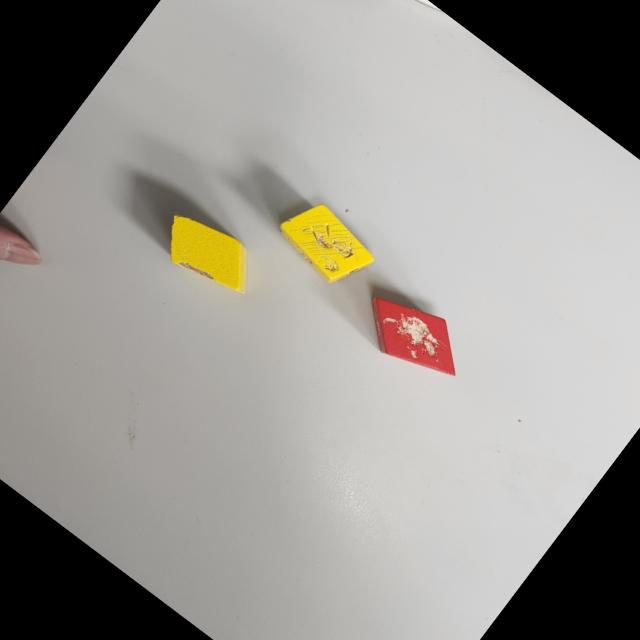broken: (348, 276, 479, 398), (151, 200, 269, 310), (267, 190, 383, 298)
